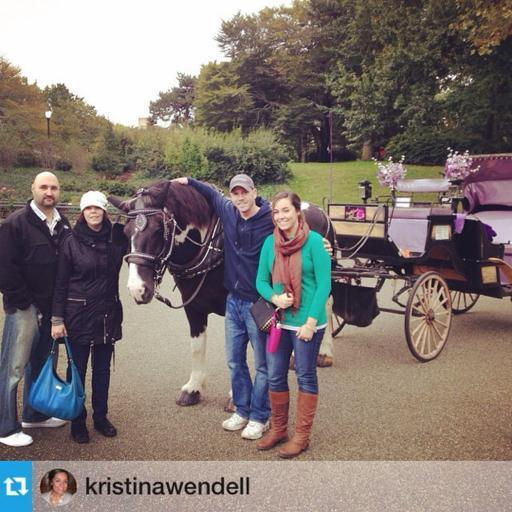horse: (107, 180, 338, 408)
